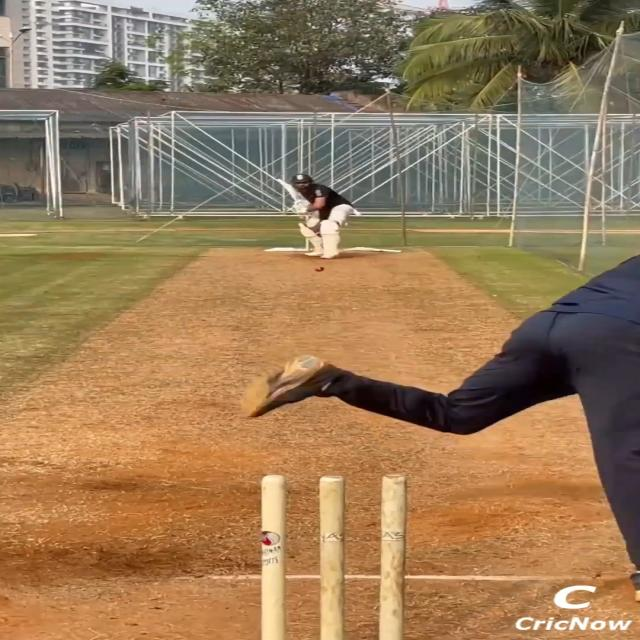ball: (314, 266, 324, 272)
stump: (259, 473, 403, 640)
